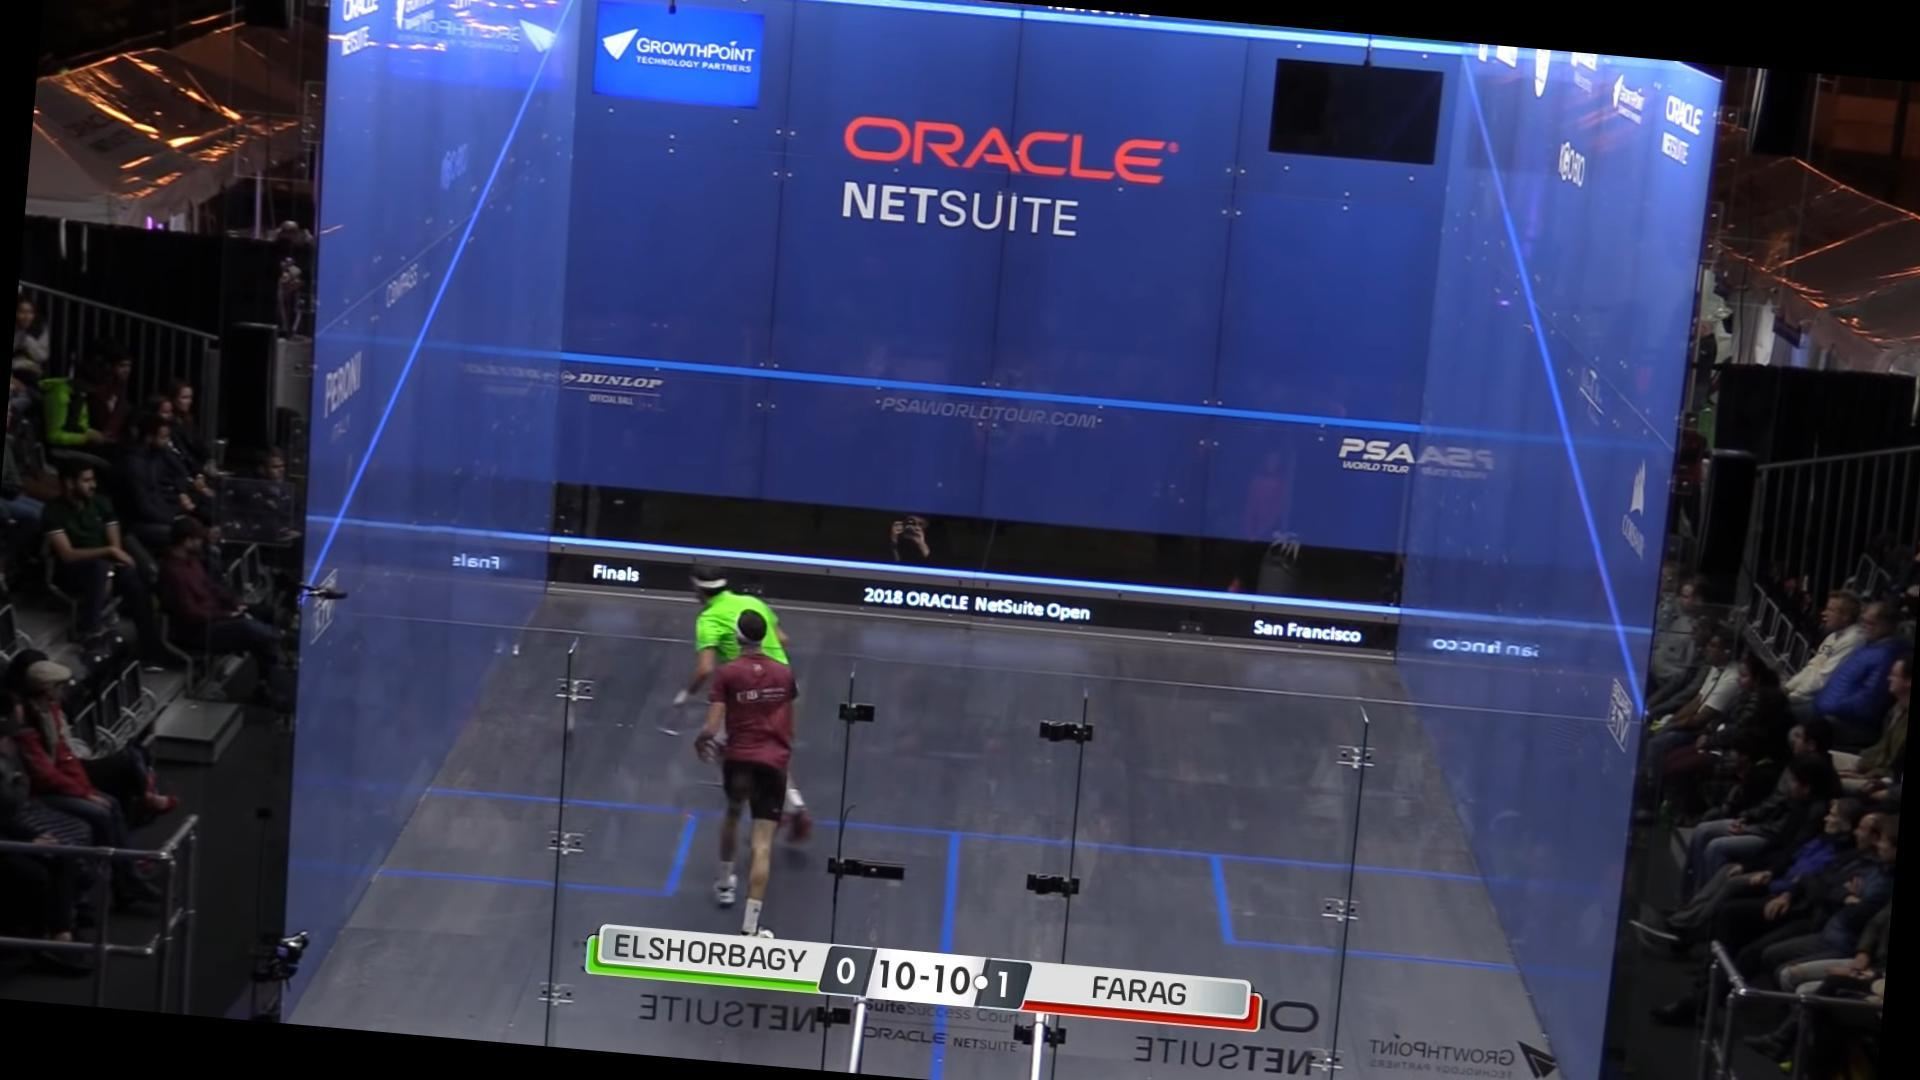Squash-Ball: (505, 637, 534, 663)
